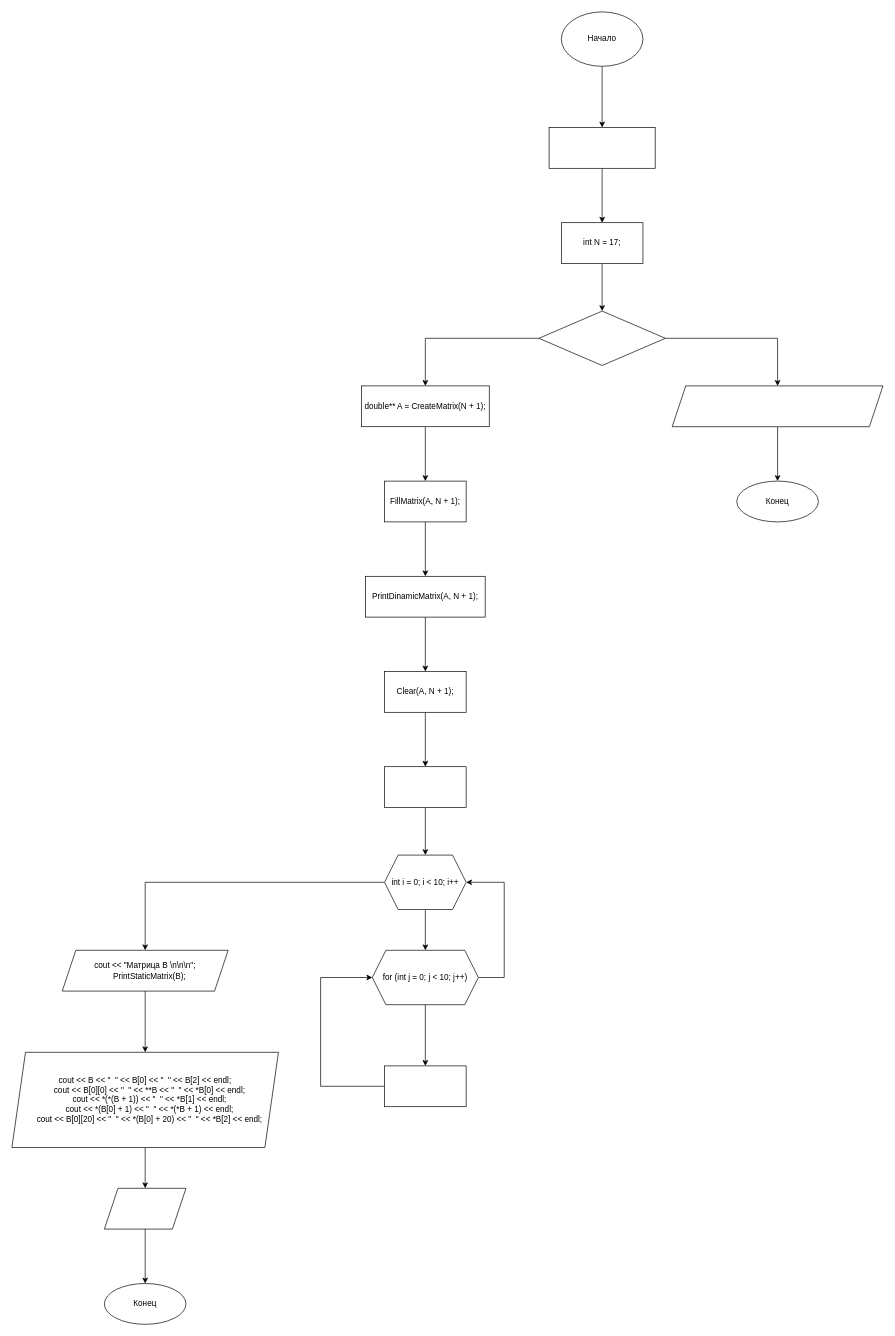
Some shapes in this 895 by 1336 pixel diagram are drawn without their labels. The box of each missing label's shape, as (x1, y1, x2, y2) in pixels:
B[i][j] = 10 * i + j;: (384, 1065, 466, 1107)
cout << "Невозможно напечатать матрицу!"; return 0;: (672, 385, 883, 427)
double B[10][10];: (384, 766, 466, 808)
GetConsoleWidth() / N < 9: (538, 310, 665, 366)
return 0;: (104, 1188, 186, 1229)
setlocale(LC_ALL, "rus");: (548, 127, 655, 168)
